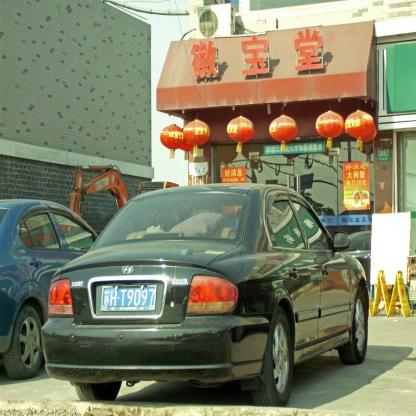Car: (44, 176, 376, 409), (1, 196, 100, 383)
